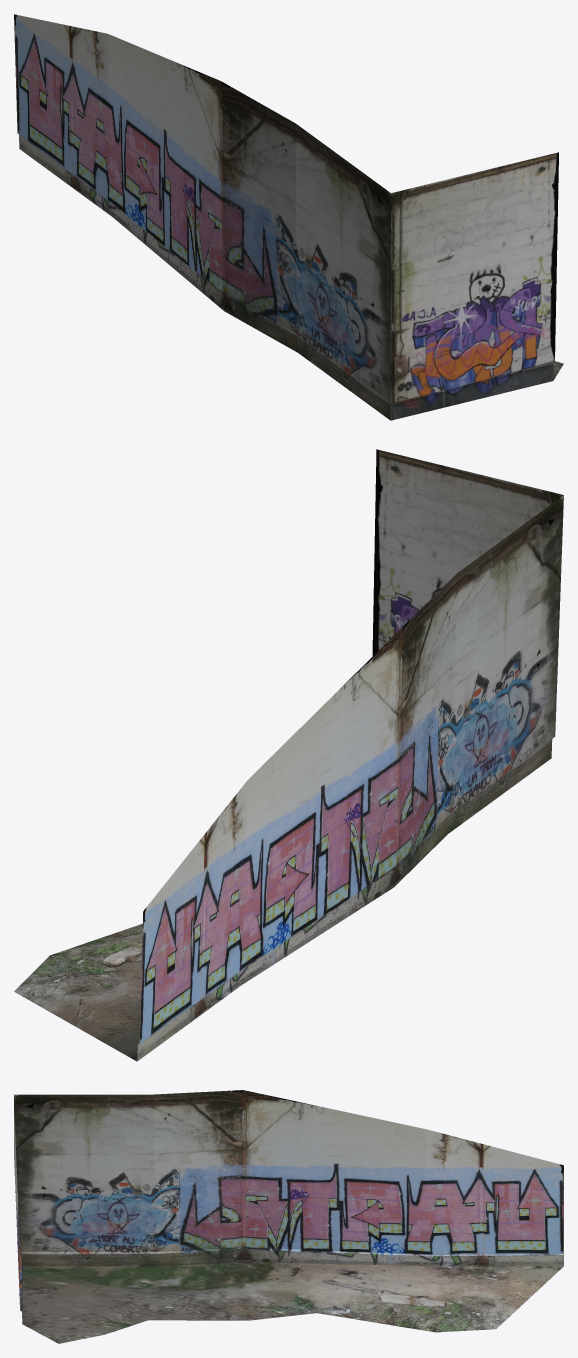
File: graffiti_on_a_wall_-_low_poly.glb
3 renders of one model, top to bottom at view 1: azimuth 30°, elevation 25°; view 2: azimuth 150°, elevation 25°; view 3: azimuth 270°, elevation 25°, orthographic. The views are drawn at different scales.
Parts seen in each view (by area): view 1: Object_2; view 2: Object_2; view 3: Object_2.
Part boxes in pixels (x1,y1,x2,y2): Object_2: [14, 14, 563, 420]; Object_2: [14, 449, 563, 1061]; Object_2: [14, 1090, 563, 1343].
Bounding box in the file's own units: 1.54 × 1.66 × 4.66.
Materials: 1 (1 with a texture image).
